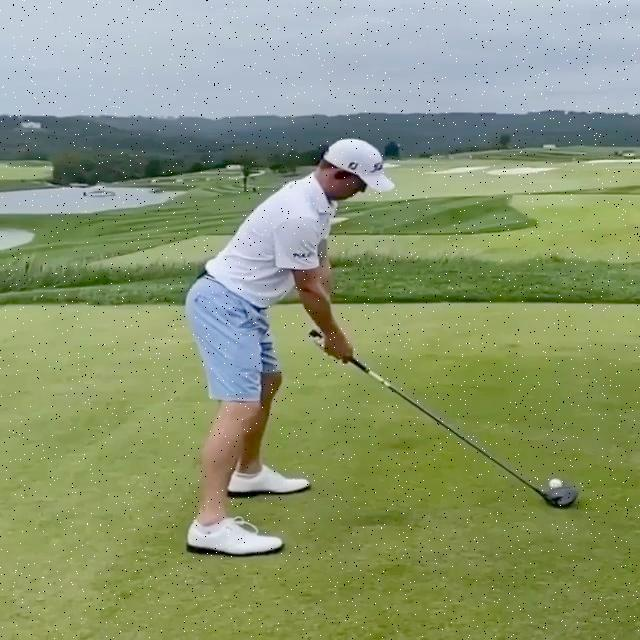ClubHead: (546, 486, 579, 509)
GolfBall: (549, 480, 562, 489)
